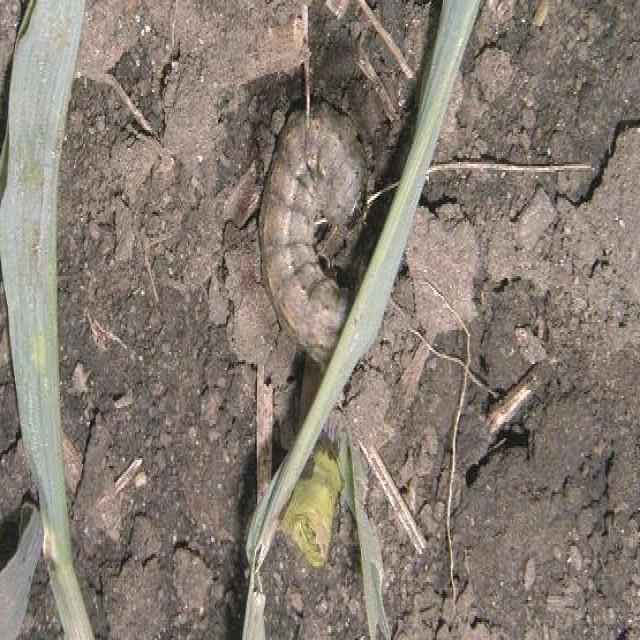black cutworm: (255, 93, 367, 365)
